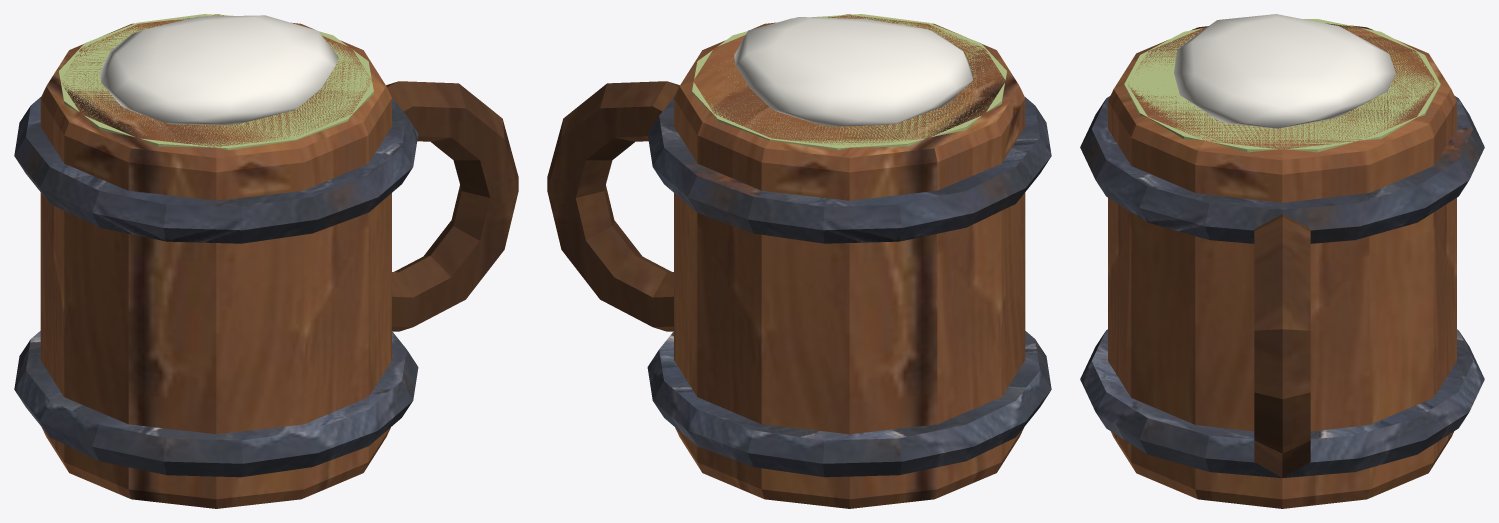
File: drink_moss_ale.glb
3 views of the same model, side by side, from view 1: azimuth 30°, elevation 25°; view 2: azimuth 150°, elevation 25°; view 3: azimuth 270°, elevation 25° (orthographic).
Visible parts, largest first — view 1: model; view 2: model; view 3: model.
Part boxes in pixels (<box>): model: <box>14,14,518,508</box>; model: <box>547,14,1051,508</box>; model: <box>1080,14,1484,508</box>.
Size of the model in its own units: 0.236 by 0.1893 by 0.174.
Materials: 6 (4 with a texture image).
